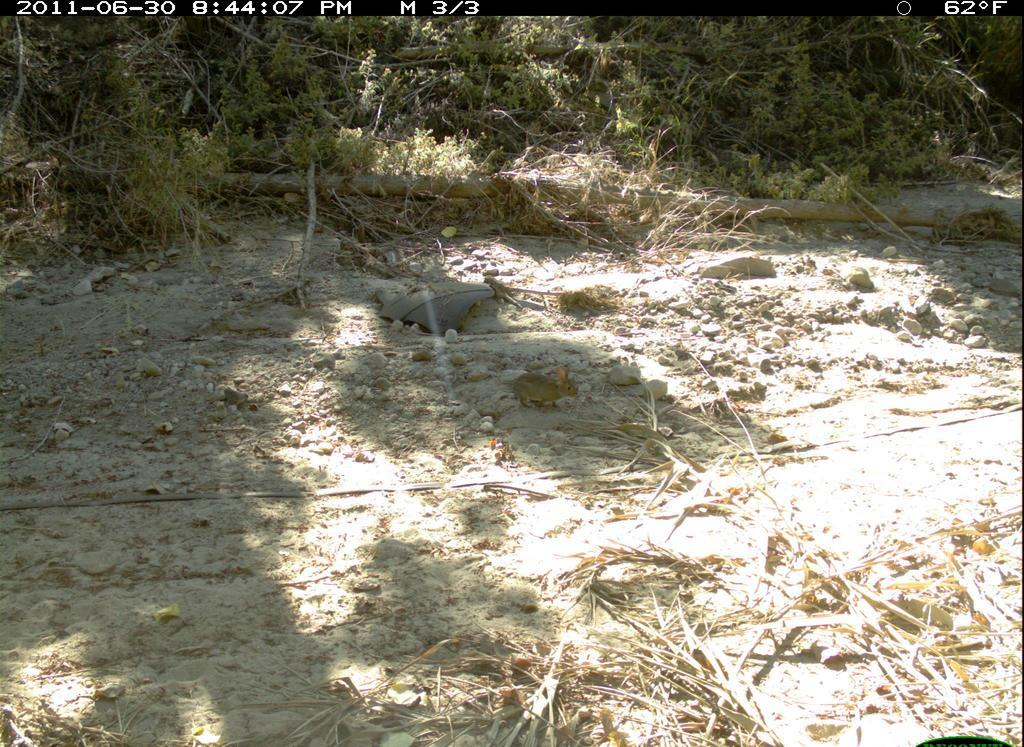rabbit: (509, 363, 580, 415)
